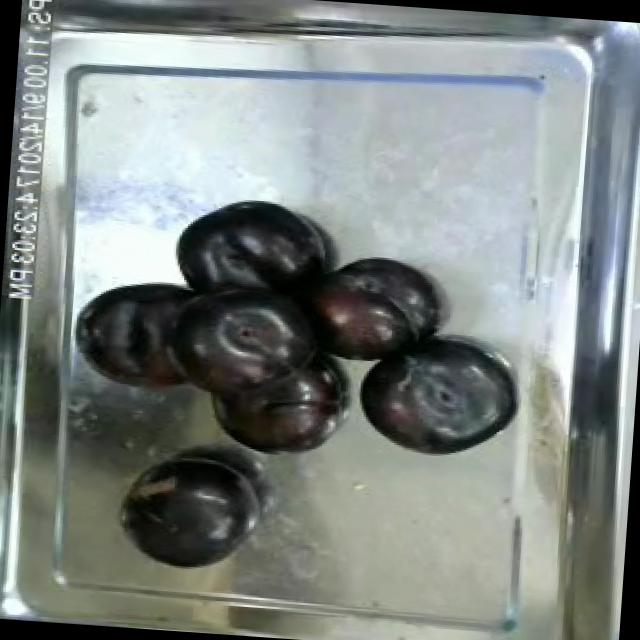Fruit: (346, 324, 522, 464), (113, 454, 263, 580), (295, 246, 444, 366), (166, 188, 331, 296), (206, 359, 352, 464)
